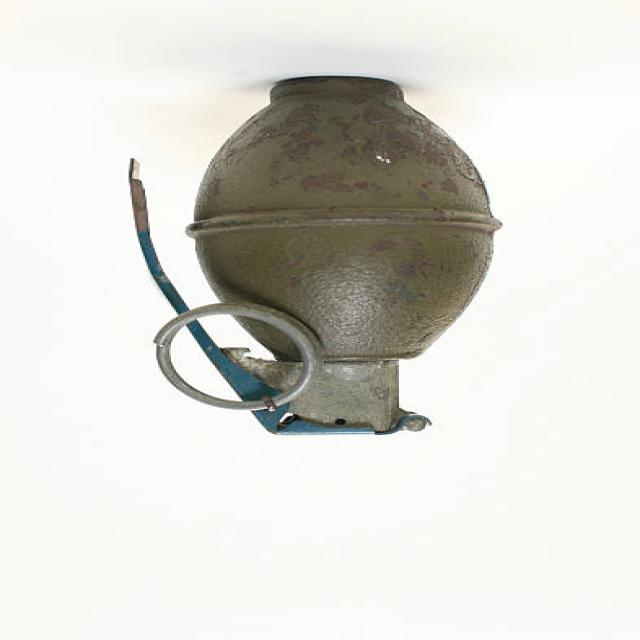grenade: (124, 72, 510, 444)
